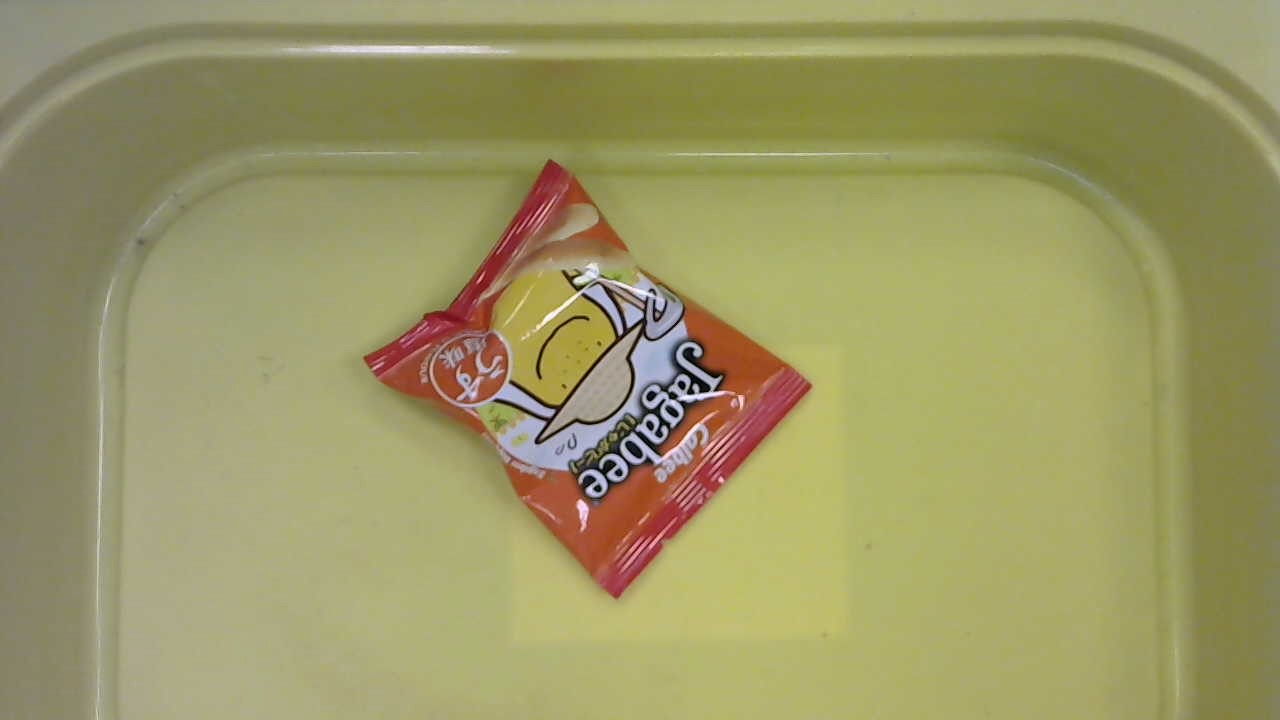JagabeeFarmer: (327, 151, 835, 615)
